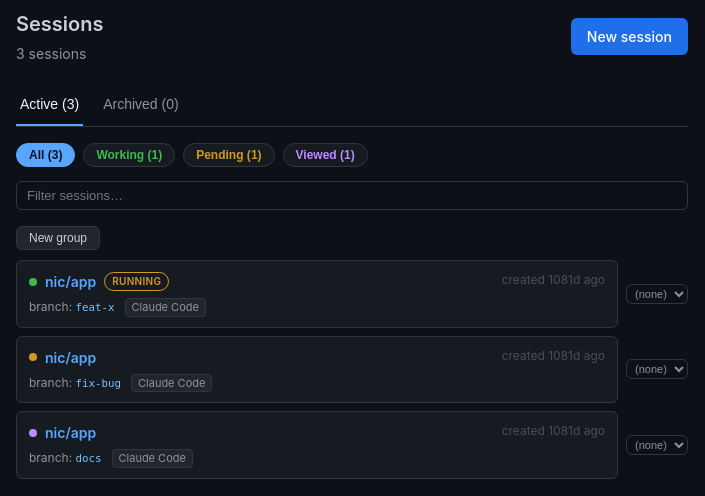
Test: SessionList › filters the list when a chip is clicked
Expected: the text "fix-bug" is shown, [76,376,121,390]
Click the button "Pending (1)".
click(229, 155)  # box [183,143,275,167]
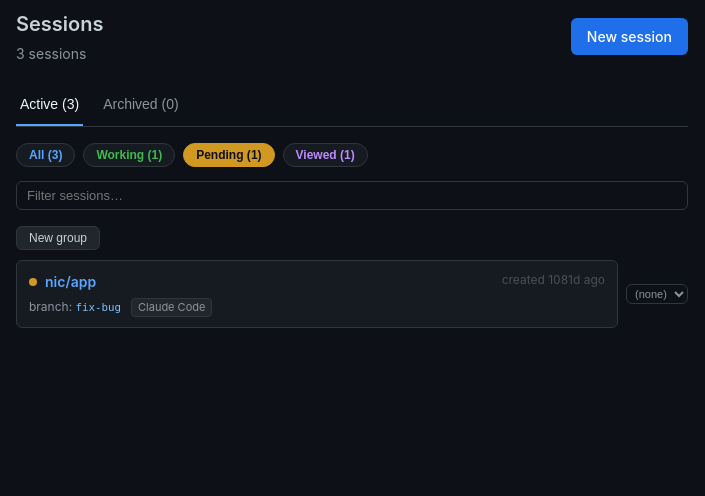
Expected: the text "fix-bug" is shown, [76,301,121,314]
Expected: the link "feat-x" is gone
Expected: the link "docs" is gone
// Back to All restores everything.
Click the button "All (3)".
click(46, 155)  # box [16,143,75,167]
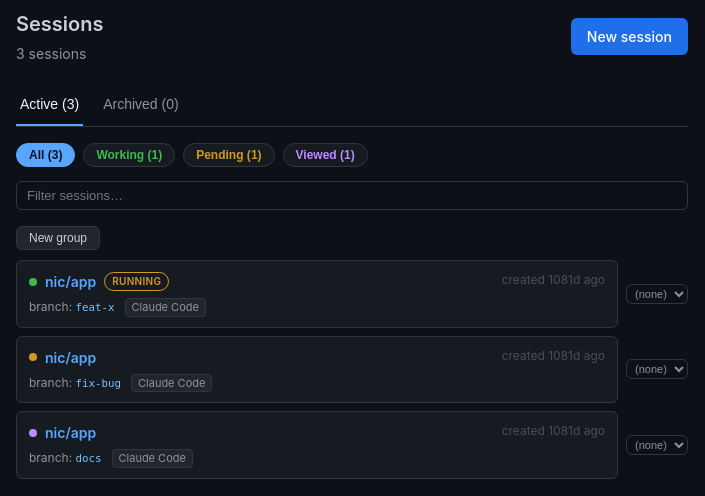
Expected: the text "feat-x" is shown, [76,301,114,314]
